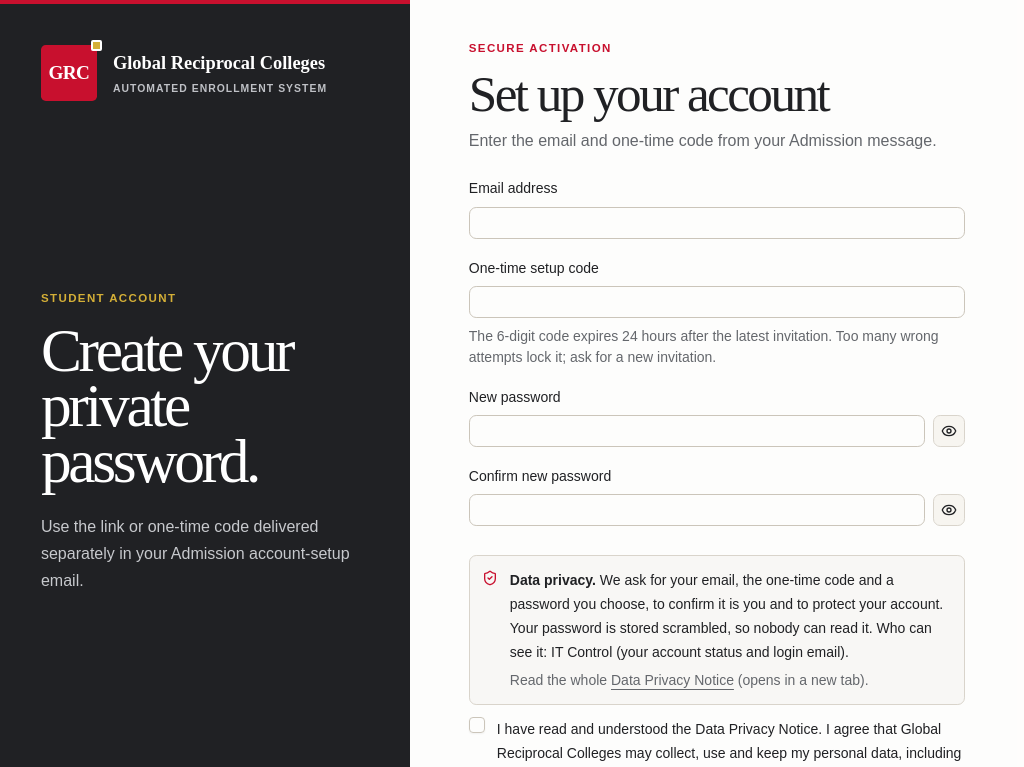
AccountSetupPage › says what is asked and why, and cannot be submitted until the Data Privacy Notice is agreed to
The image size is (1024, 767).
Click the checkbox named "I have read and understood the Data Privacy Notice": (477, 725) x1=469 y1=717 x2=485 y2=733
(page scrolled)
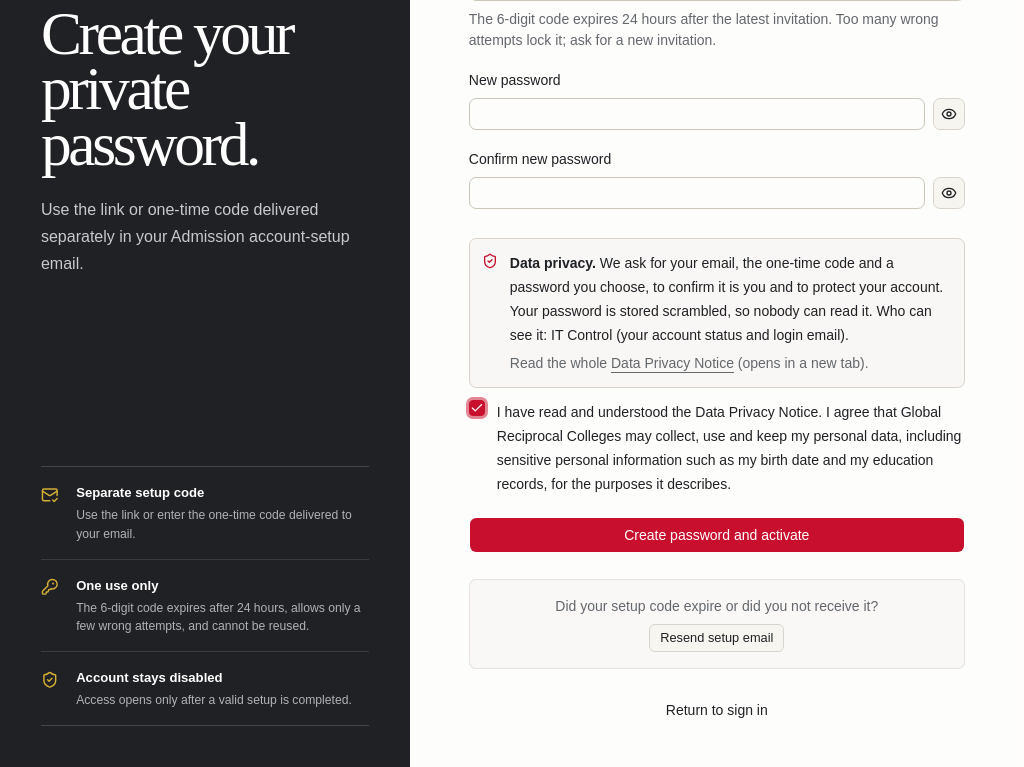
Expected: the button "Create password and activate" is enabled, x1=469 y1=517 x2=965 y2=553
